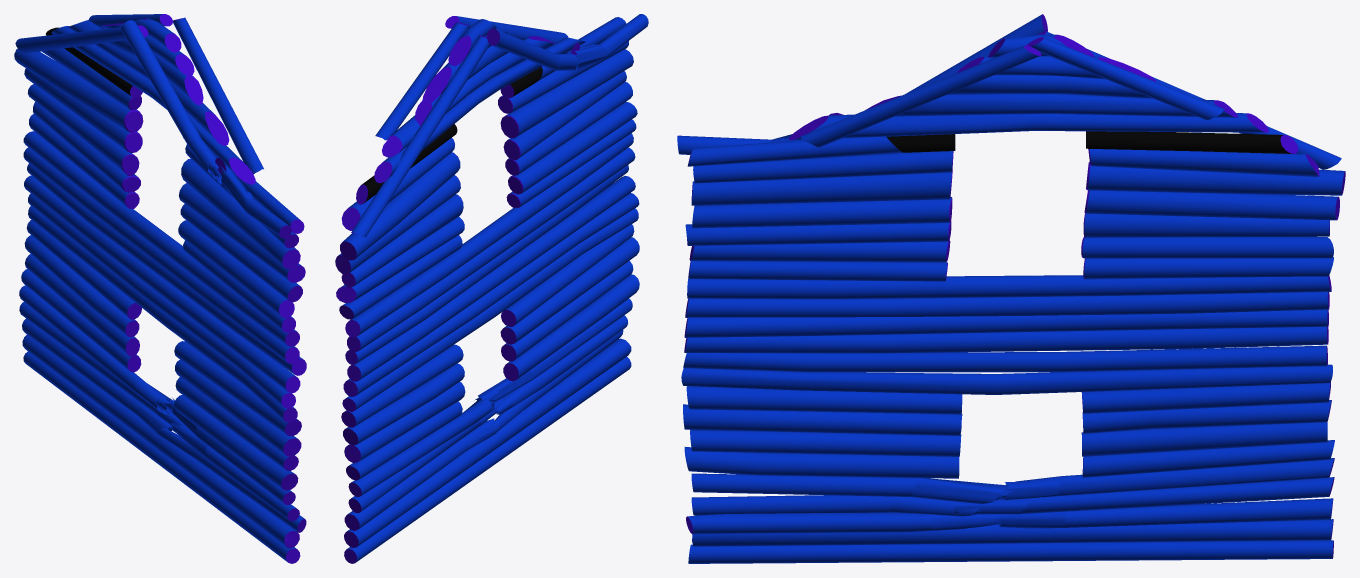
File: SM_SmallLodge_WallRight.fbx
3 renders of one model, left to right at view 1: azimuth 30°, elevation 25°; view 2: azimuth 150°, elevation 25°; view 3: azimuth 270°, elevation 25°, orthographic. The views are drawn at different scales.
Visible parts, largest first — view 1: SM_ST_SmallLodge01.mo, SolidLog, DoorRight, DoorLeft, WindowRight, WindowLeft, UpperDoor; view 2: SM_ST_SmallLodge01.mo, SolidLog, DoorLeft, DoorRight, WindowRight, WindowLeft, UpperDoor; view 3: SM_ST_SmallLodge01.mo, SolidLog, DoorLeft, DoorRight, WindowRight, WindowLeft, UpperDoor.
Part boxes in pixels (x1=…): SM_ST_SmallLodge01.mo: x1=15, y1=14, x2=306, y2=563; SolidLog: x1=23, y1=131, x2=300, y2=393; DoorRight: x1=14, y1=48, x2=143, y2=208; DoorLeft: x1=178, y1=144, x2=305, y2=332; WindowRight: x1=174, y1=341, x2=301, y2=490; WindowLeft: x1=21, y1=220, x2=141, y2=372; UpperDoor: x1=46, y1=27, x2=183, y2=138; SM_ST_SmallLodge01.mo: x1=342, y1=14, x2=648, y2=563; SolidLog: x1=345, y1=133, x2=635, y2=381; DoorLeft: x1=498, y1=41, x2=637, y2=207; DoorRight: x1=335, y1=138, x2=464, y2=319; WindowRight: x1=500, y1=224, x2=639, y2=381; WindowLeft: x1=341, y1=344, x2=465, y2=480; UpperDoor: x1=361, y1=67, x2=542, y2=202; SM_ST_SmallLodge01.mo: x1=677, y1=14, x2=1341, y2=563; SolidLog: x1=684, y1=275, x2=1331, y2=353; DoorLeft: x1=685, y1=151, x2=953, y2=281; DoorRight: x1=1081, y1=149, x2=1345, y2=279; WindowRight: x1=683, y1=386, x2=962, y2=478; WindowLeft: x1=1081, y1=382, x2=1334, y2=477; UpperDoor: x1=886, y1=131, x2=1293, y2=153.
Bounding box in the file's own units: 108 × 894 × 793.
